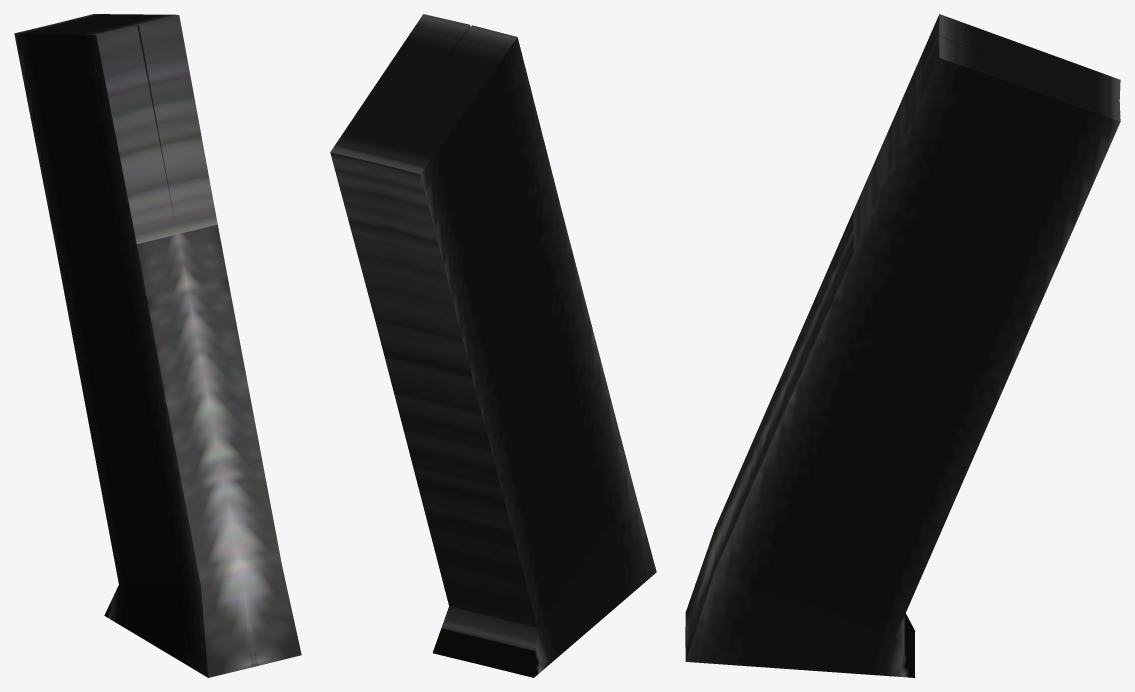
The model's file is glonkMag.glb.
3 views of the same model, side by side, from view 1: azimuth 30°, elevation 25°; view 2: azimuth 150°, elevation 25°; view 3: azimuth 270°, elevation 25° (orthographic). The views are drawn at different scales.
Parts seen in each view (by area): view 1: Fourier 9 mag; view 2: Fourier 9 mag; view 3: Fourier 9 mag.
Part boxes in pixels (x1,y1,x2,y2): Fourier 9 mag: (14,14,301,677); Fourier 9 mag: (330,14,656,677); Fourier 9 mag: (685,14,1120,677).
Bounding box in the file's own units: 0.0343 × 0.2007 × 0.128.
1 material, 1 textured.
